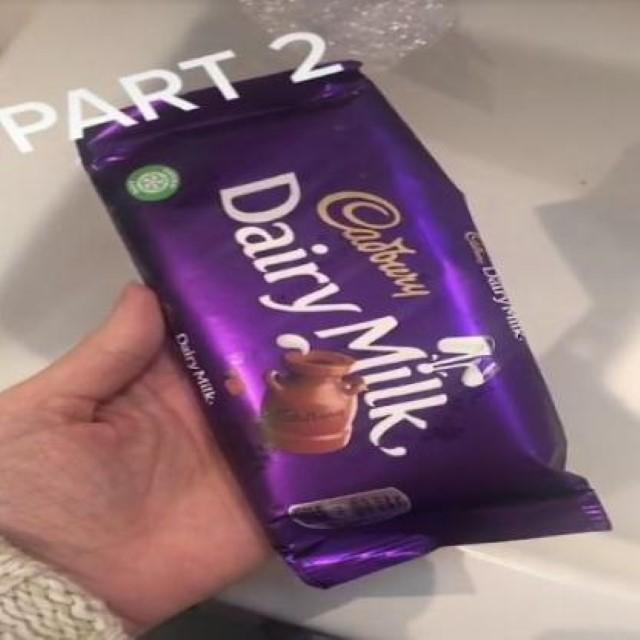cadbury_chocolate: (82, 63, 595, 593)
